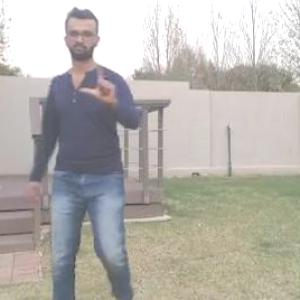land_hand: (80, 59, 126, 109)
